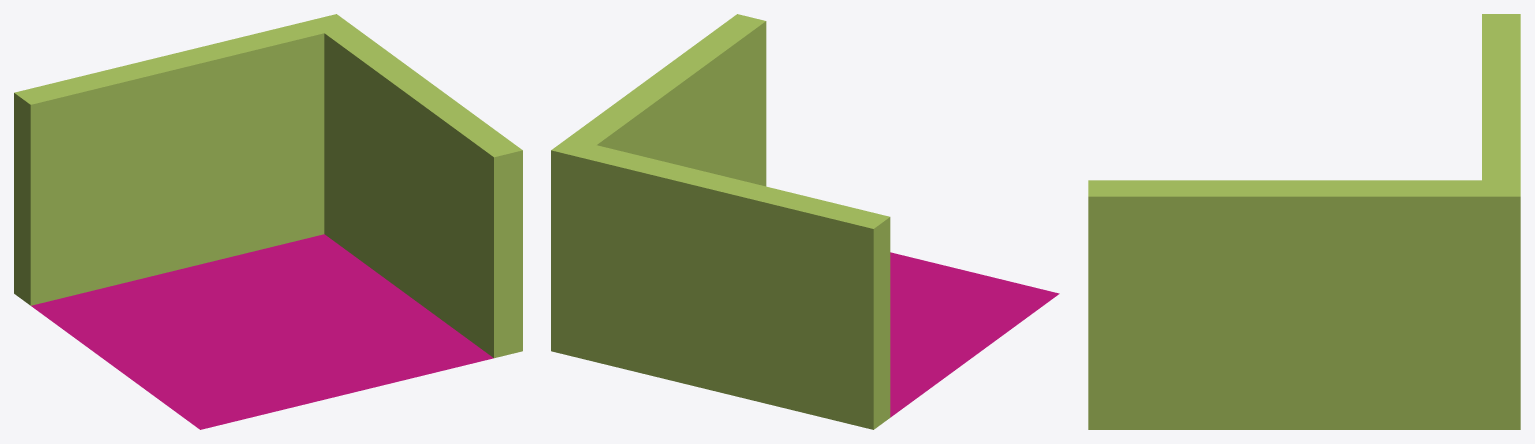
The model's file is dinding.obj.
3 views of the same model, side by side, from view 1: azimuth 30°, elevation 25°; view 2: azimuth 150°, elevation 25°; view 3: azimuth 270°, elevation 25° (orthographic). The views are drawn at different scales.
Visible parts, largest first — view 1: Wall.008_Cube.103; view 2: Wall.008_Cube.103; view 3: Wall.008_Cube.103.
Boxes of the visible parts, x1,y1,x2,y2 form: Wall.008_Cube.103: [14, 14, 522, 429]; Wall.008_Cube.103: [551, 14, 1059, 429]; Wall.008_Cube.103: [1088, 14, 1520, 429].
Size of the model in its own units: 8.4 by 5 by 8.4.
